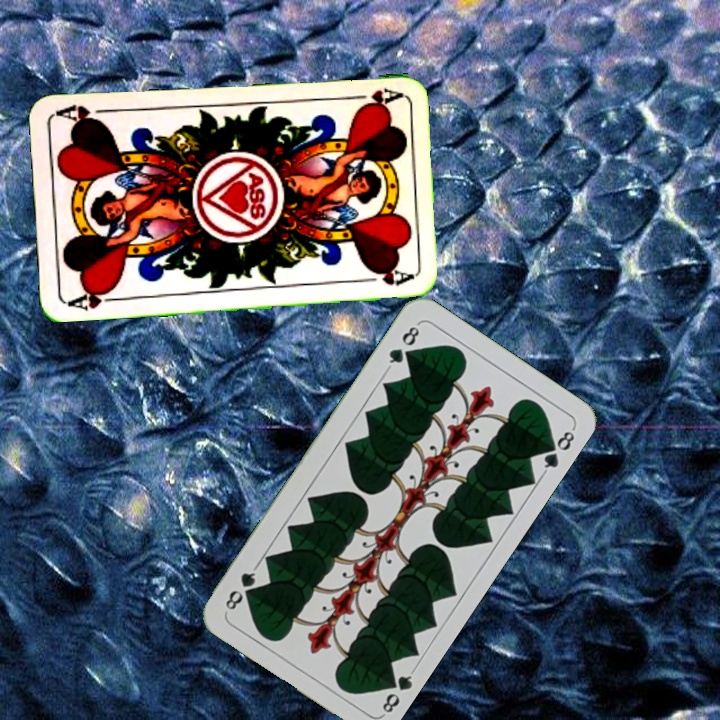G8: (378, 666, 418, 718), (383, 319, 422, 372)
HA: (64, 284, 123, 312), (343, 83, 402, 110)
